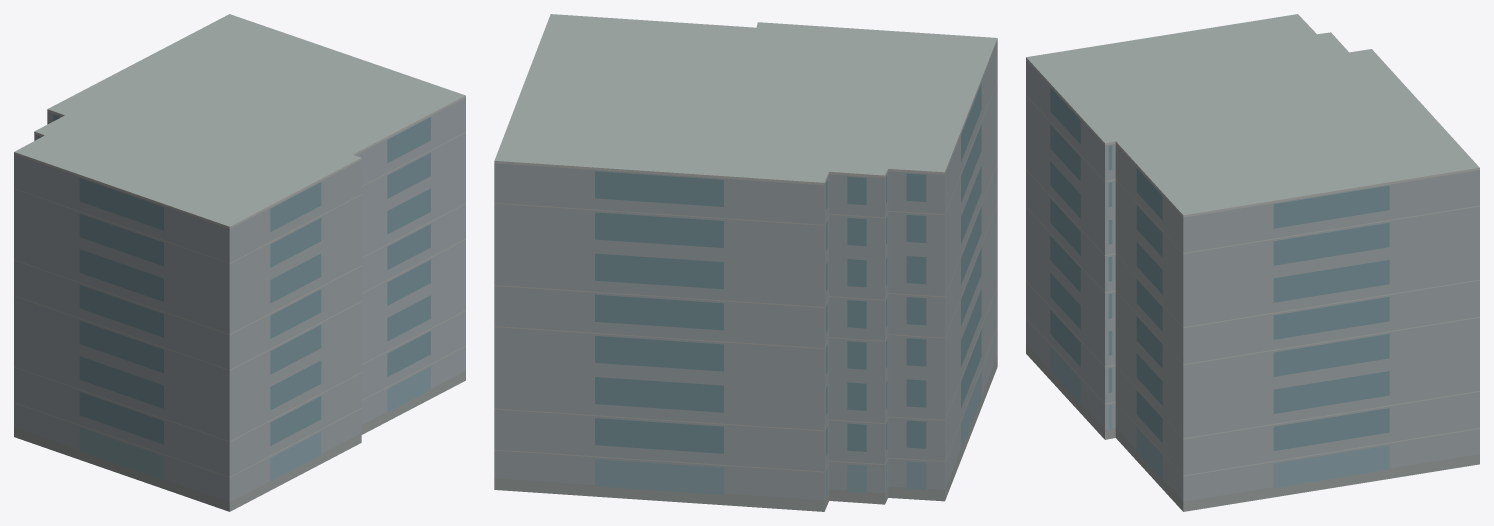
The model's file is survey-upis-32855068.glb.
3 views of the same model, side by side, from view 1: azimuth 30°, elevation 25°; view 2: azimuth 150°, elevation 25°; view 3: azimuth 270°, elevation 25° (orthographic). The views are drawn at different scales.
Visible parts, largest first — view 1: survey-upis-32855068.tmp; view 2: survey-upis-32855068.tmp; view 3: survey-upis-32855068.tmp.
Part boxes in pixels (left/top/right/bottom): survey-upis-32855068.tmp: left=14, top=14, right=465, bottom=511; survey-upis-32855068.tmp: left=494, top=14, right=997, bottom=511; survey-upis-32855068.tmp: left=1026, top=14, right=1479, bottom=511.
Bounding box in the file's own units: 47.93 × 32.9 × 45.64.
